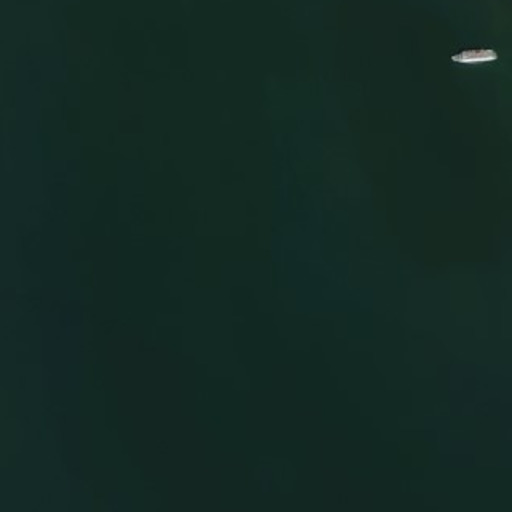ship: (446, 45, 501, 67)
